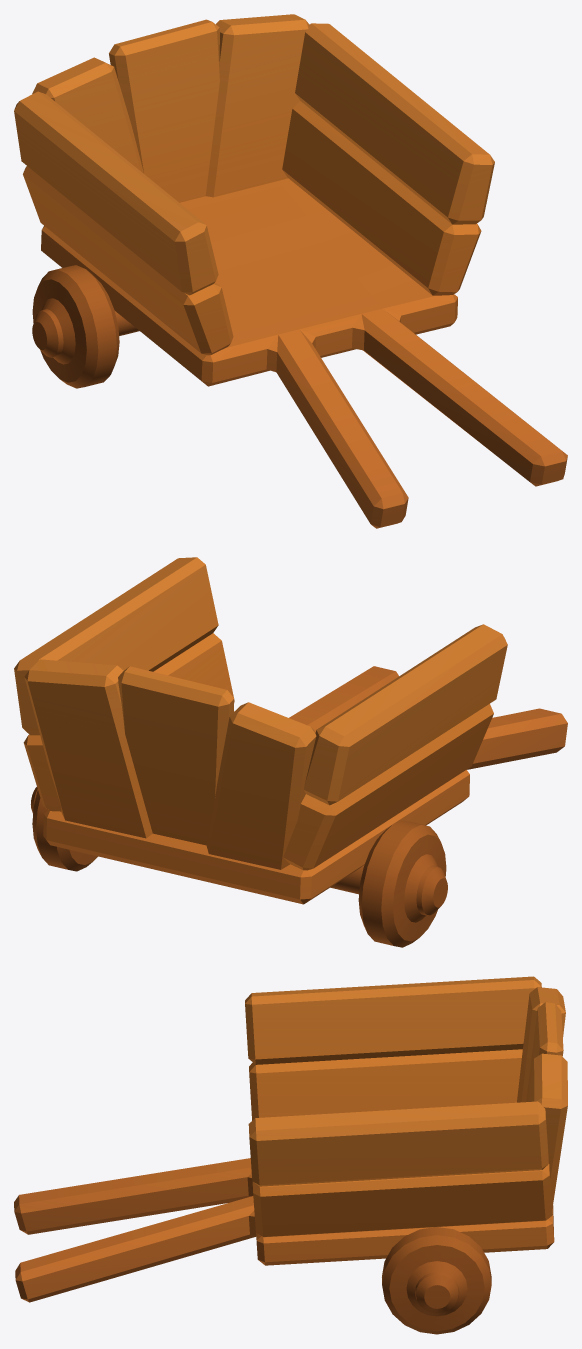
File: Cart.fbx
3 views of the same model, one above another, from view 1: azimuth 30°, elevation 25°; view 2: azimuth 150°, elevation 25°; view 3: azimuth 270°, elevation 25° (orthographic). The views are drawn at different scales.
Visible parts, largest first — view 1: Cart; view 2: Cart; view 3: Cart.
Part boxes in pixels (x1,y1,x2,y2): Cart: (14, 14, 567, 528); Cart: (14, 557, 567, 947); Cart: (14, 976, 567, 1334).
Size of the model in its own units: 102 by 66.47 by 140.
